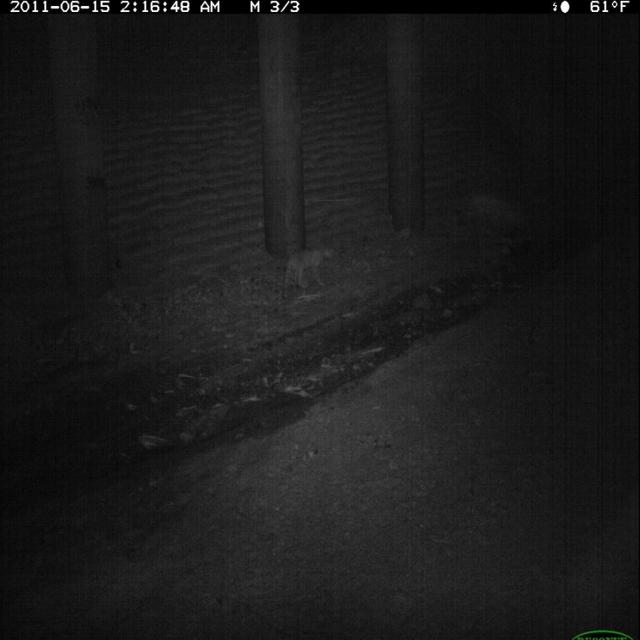bobcat: (283, 240, 339, 295)
